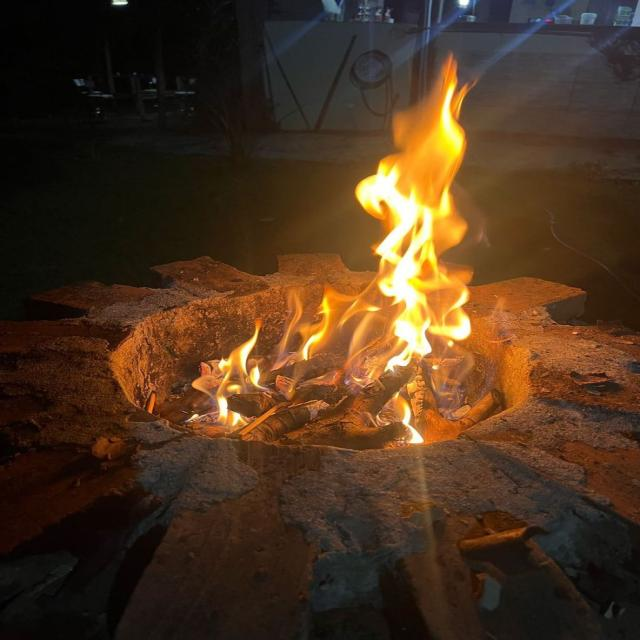fire: (279, 52, 473, 444), (215, 319, 269, 425)
